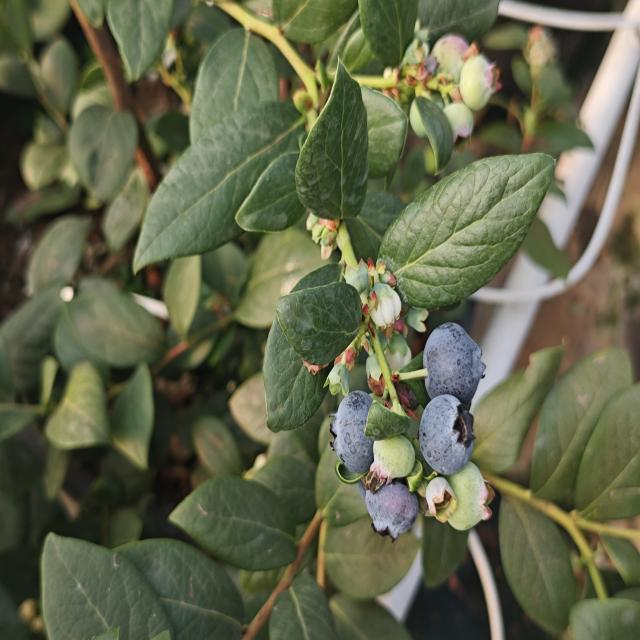ripe: (420, 320, 487, 407), (416, 392, 477, 478), (328, 388, 377, 479), (370, 478, 418, 546)
